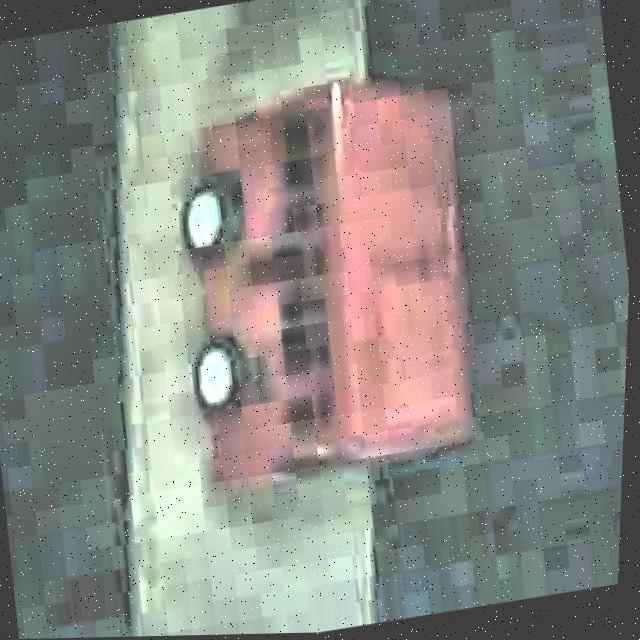bus: (143, 60, 508, 503)
